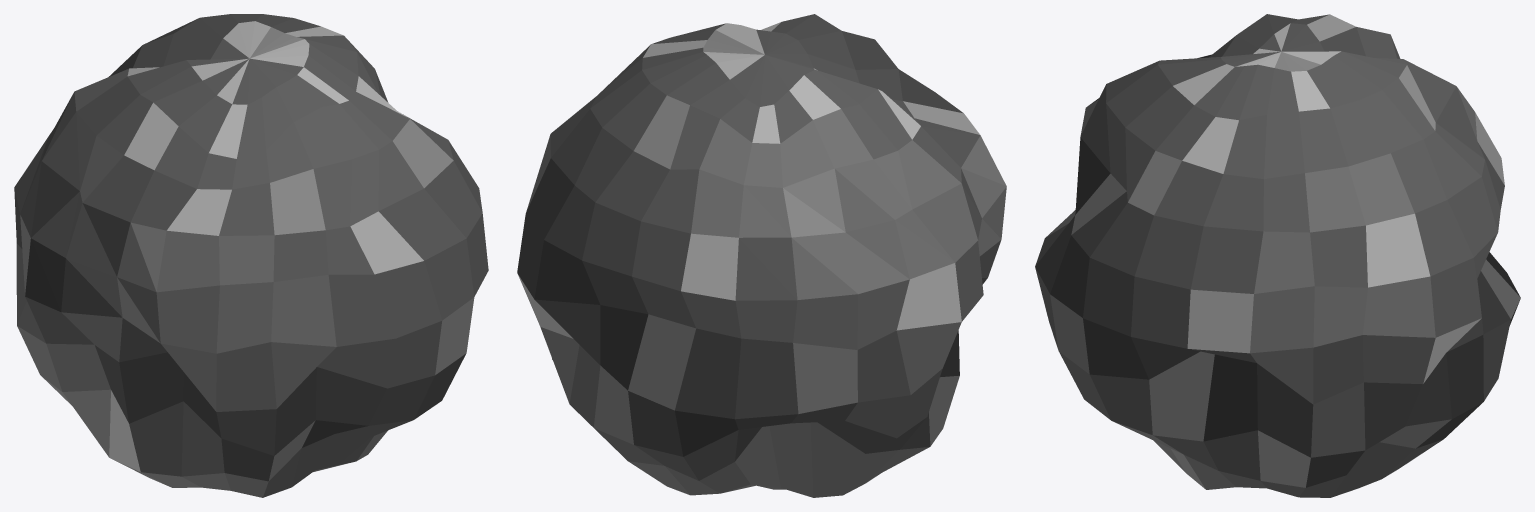
File: asteroid.glb
3 renders of one model, left to right at view 1: azimuth 30°, elevation 25°; view 2: azimuth 150°, elevation 25°; view 3: azimuth 270°, elevation 25°, orthographic. The views are drawn at different scales.
Visible parts, largest first — view 1: sphere; view 2: sphere; view 3: sphere.
Part boxes in pixels (x1,y1,x2,y2): sphere: (14,14,488,497); sphere: (517,14,1006,497); sphere: (1035,14,1520,497).
Bounding box in the file's own units: 0.9465 × 0.9413 × 0.974.
1 material, 1 textured.
